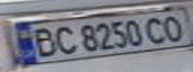0: (124, 17, 148, 47)
2: (93, 19, 115, 51)
5: (109, 18, 130, 48)
8: (75, 20, 100, 53)
B: (27, 25, 60, 57)
C: (48, 24, 78, 56), (142, 14, 172, 44)
O: (157, 13, 190, 42)
